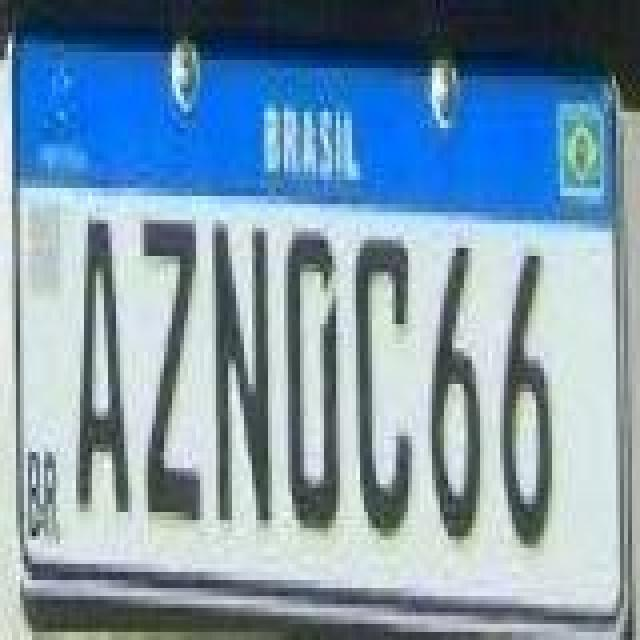6: (428, 244, 484, 540), (500, 252, 556, 548)
A: (76, 218, 132, 518)
C: (356, 234, 412, 542)
D: (284, 226, 340, 534)
N: (210, 222, 270, 530)
Z: (140, 218, 204, 526)
